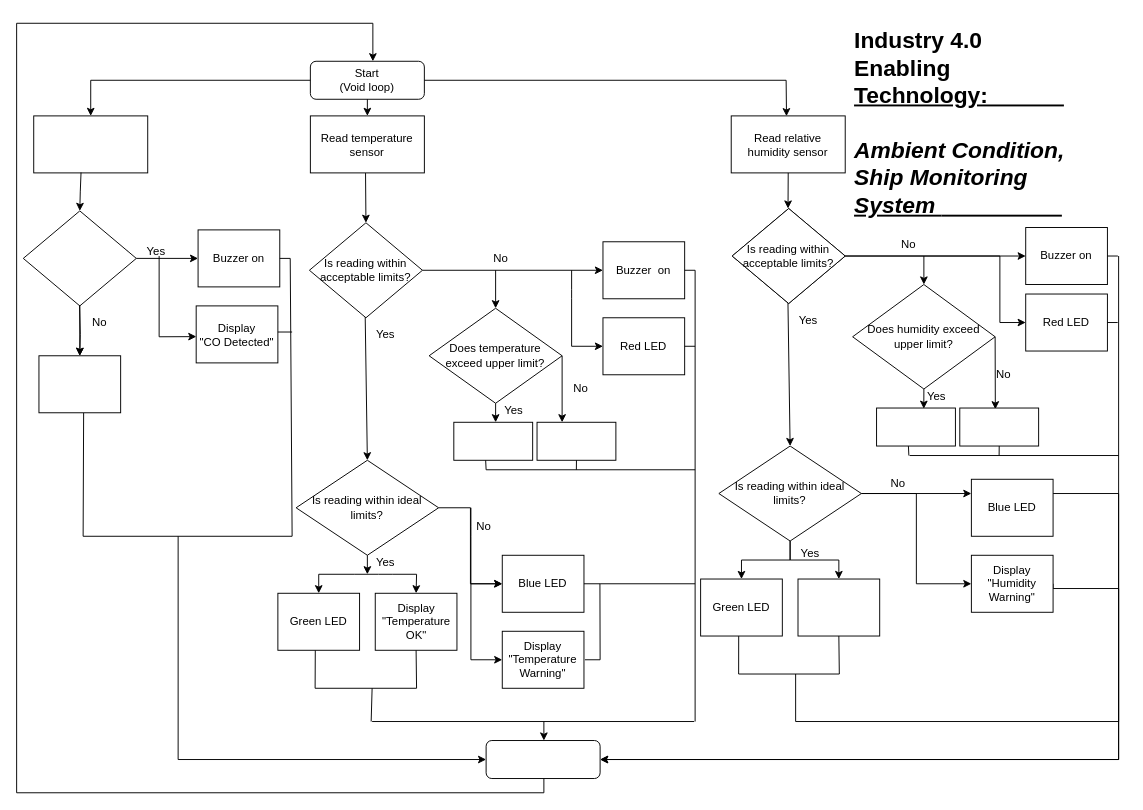
Image size: 1143x810. Some labels were removed from this diagram. Here are the shapes that lost their labels. From the top down, the centre of each, then its label:
pixel 90 144: Read carbon monoxide sensor
pixel 79 258: CO detected?
pixel 79 384: Display "CO Not Detected"
pixel 493 440: Display "Temperature too high"
pixel 576 440: Display "Temperature too low"
pixel 915 426: Display "Humidity too high"
pixel 999 426: Display "Humidity too low"
pixel 838 607: Display "Humidity OK"
pixel 542 759: Increment loop
